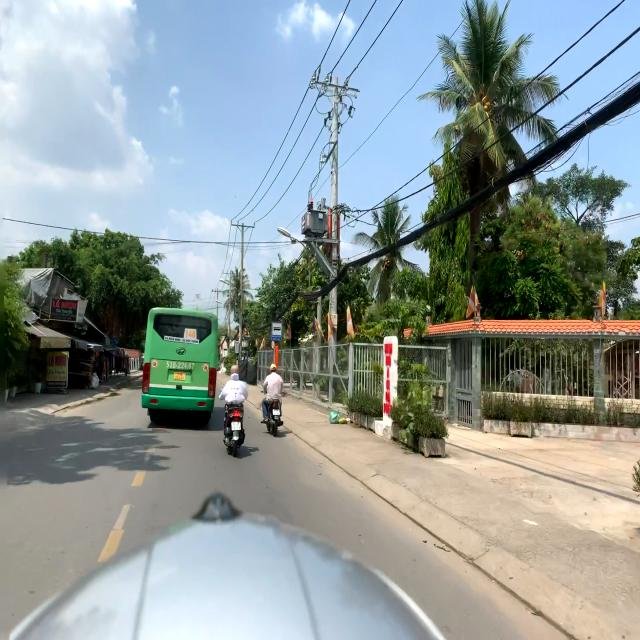R.434: (272, 322, 282, 341)
